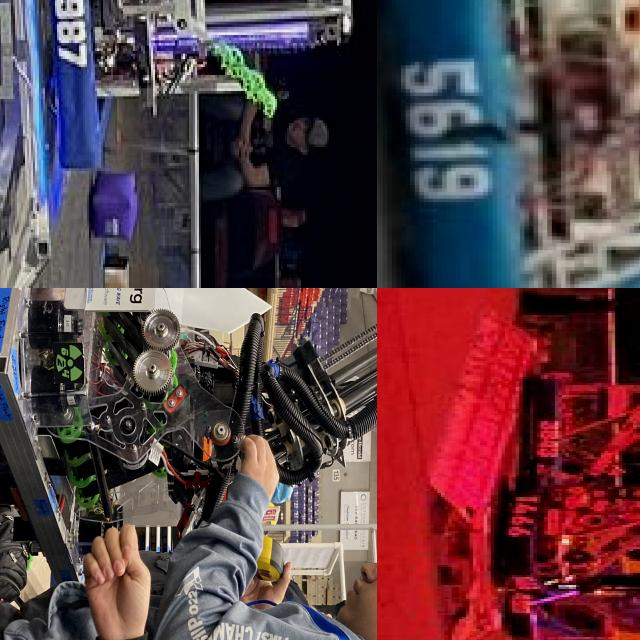FRC-Robots: (0, 288, 377, 621), (377, 0, 640, 288), (33, 0, 359, 189), (407, 481, 640, 619), (474, 355, 640, 474)
